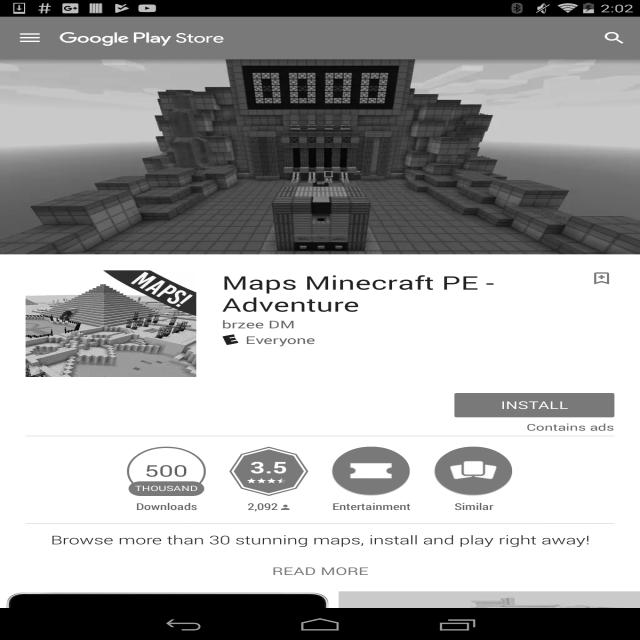Button: (222, 447, 316, 512), (324, 447, 418, 512), (426, 447, 520, 512), (454, 393, 614, 417)
ImageButton: (0, 17, 60, 59)
ImageView: (0, 59, 640, 254), (26, 270, 196, 377), (0, 591, 334, 639), (338, 591, 640, 639), (332, 447, 411, 496), (434, 447, 513, 496), (60, 30, 224, 46), (589, 270, 614, 286), (222, 334, 239, 345), (281, 505, 290, 510)
TextView: (0, 531, 640, 560), (222, 270, 589, 317), (0, 560, 640, 578), (589, 22, 640, 54), (324, 496, 418, 513), (426, 496, 520, 513), (120, 496, 213, 513), (526, 421, 614, 433), (222, 317, 295, 331), (245, 333, 316, 347), (144, 462, 188, 481), (250, 456, 288, 478), (133, 484, 200, 493), (247, 496, 278, 513)
